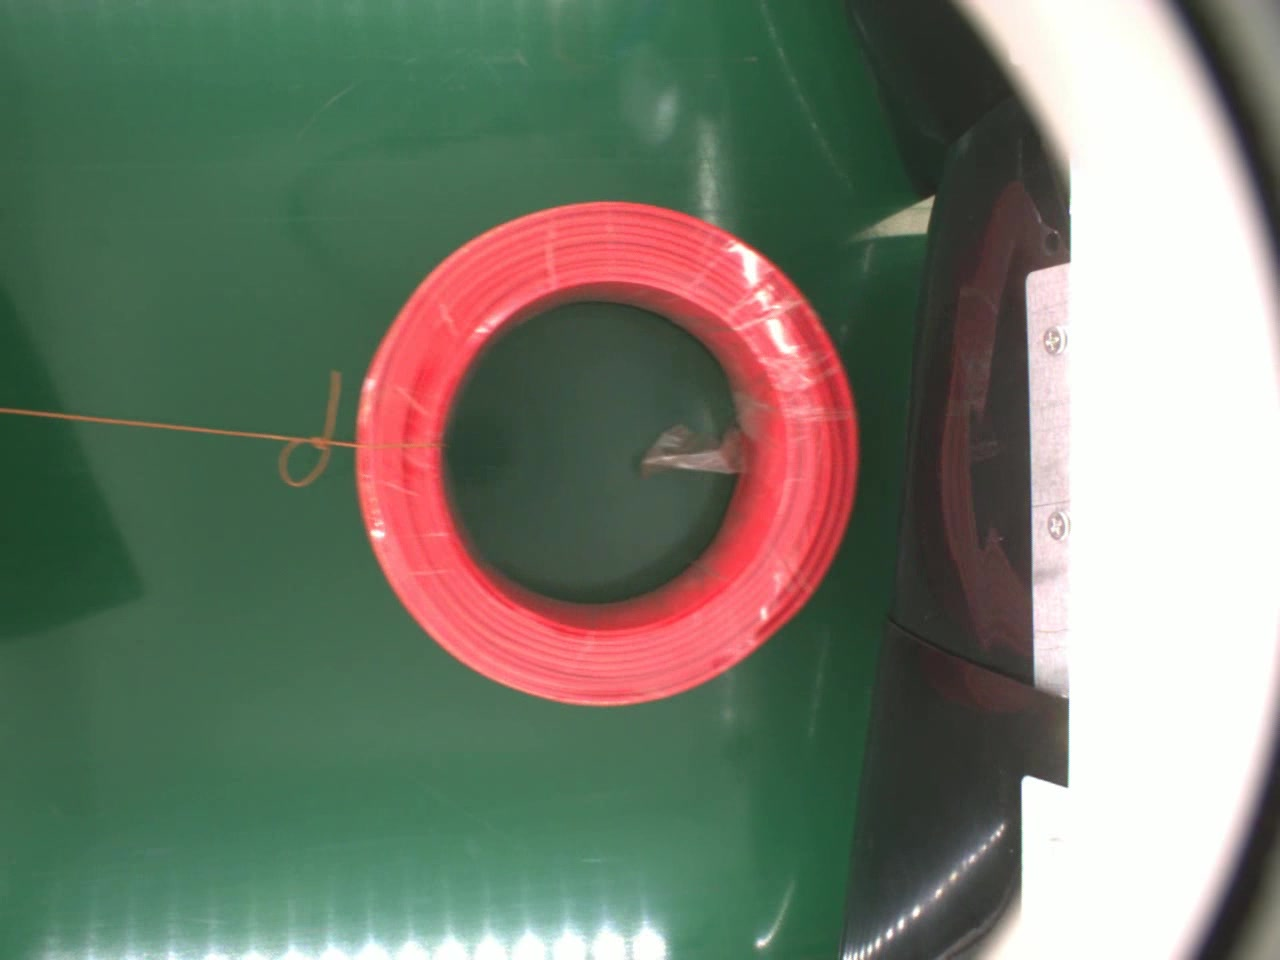red: (354, 192, 862, 705)
